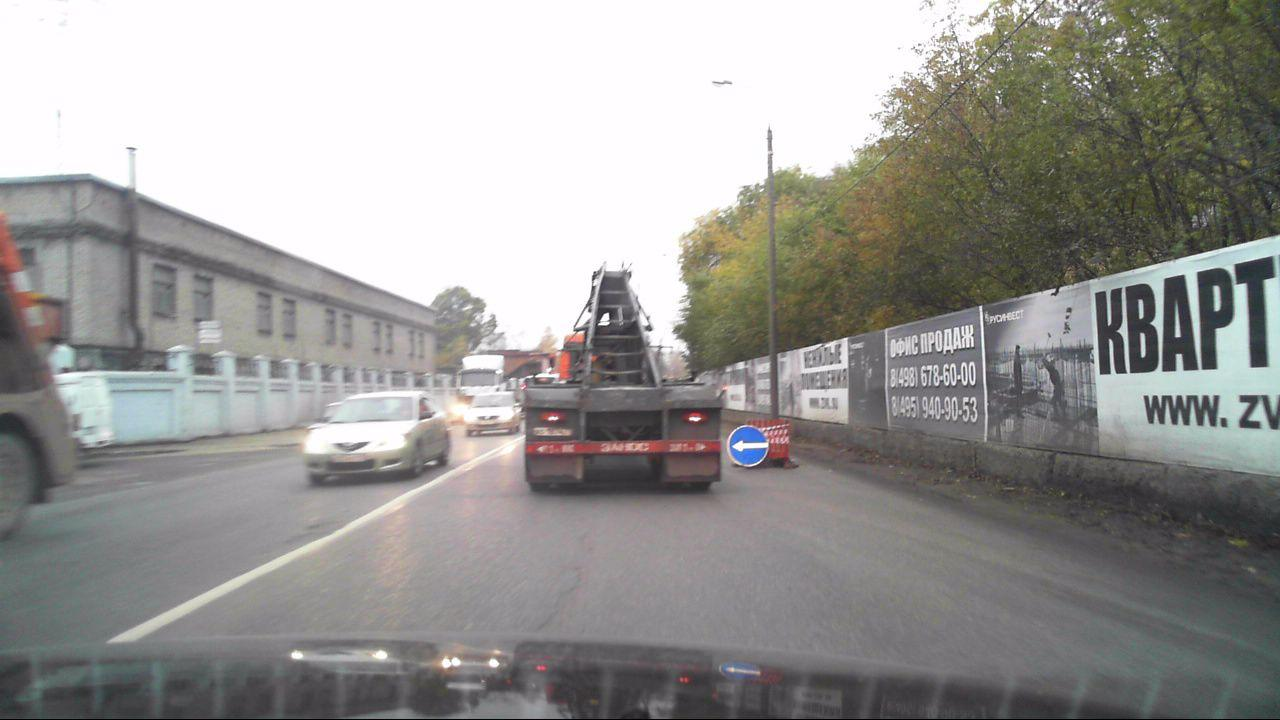4_2_2: (727, 425, 767, 466)
